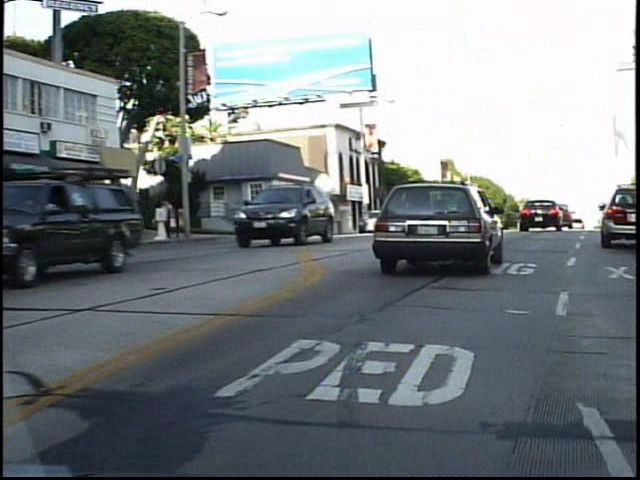person: (165, 196, 187, 242)
